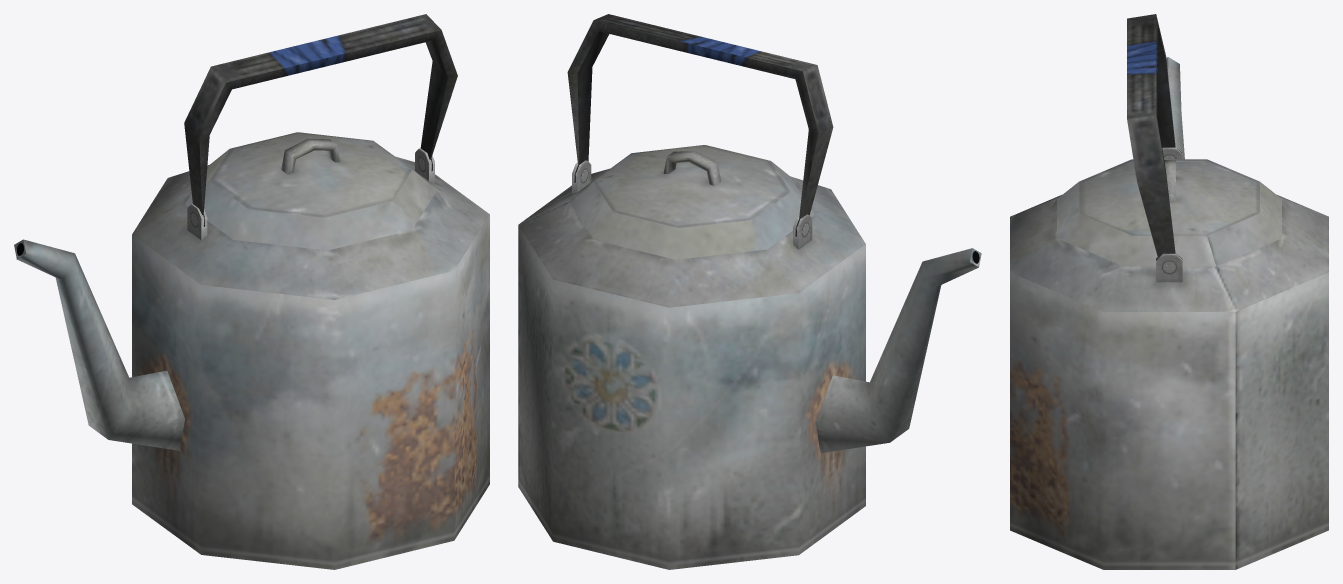
File: kettle.FBX
The picture shows the model from 3 angles, left to right: view 1: azimuth 30°, elevation 25°; view 2: azimuth 150°, elevation 25°; view 3: azimuth 270°, elevation 25°; orthographic projection. The views are drawn at different scales.
Parts seen in each view (by area): view 1: kettle; view 2: kettle; view 3: kettle.
Part boxes in pixels (x1,y1,x2,y2): kettle: [14, 14, 489, 569]; kettle: [518, 14, 981, 569]; kettle: [1010, 14, 1328, 569].
Size of what is drawn, in the model's own units: 37.83 by 37.76 by 24.88.
